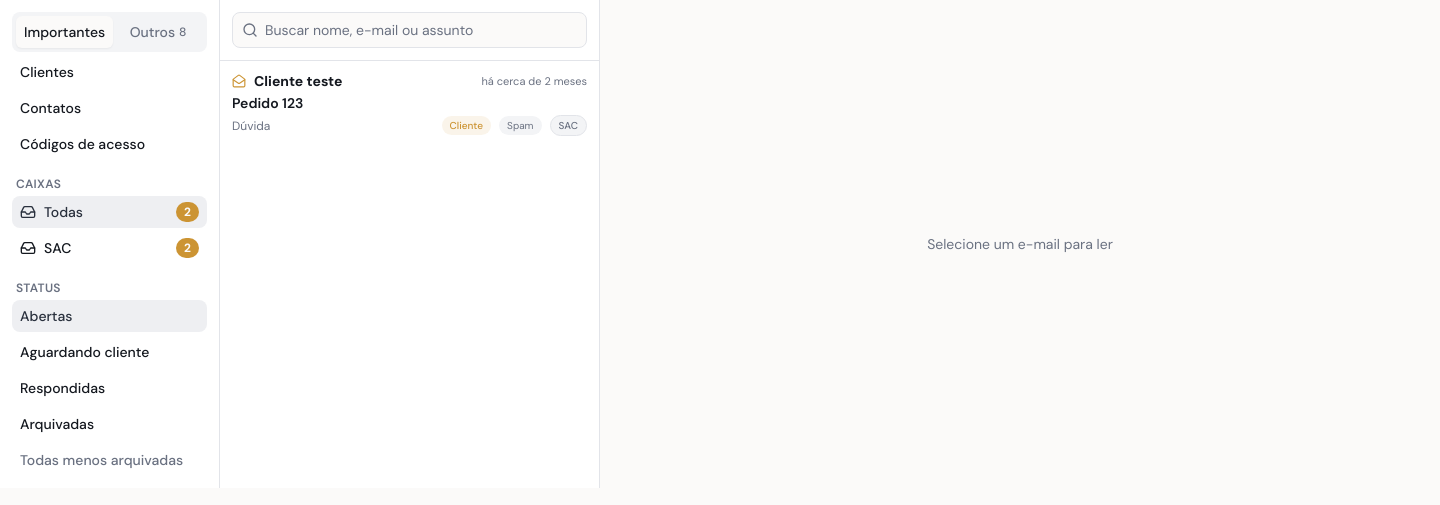
it: Inbox E-mail › move Outros para contato e passa categoria nula nas ações de status
The width and height of the screenshot is (1440, 505).
Later steps or results of the test are not shown.
Step 1. Click the button "Cliente teste" → click(298, 81), box [220,61,599,146]
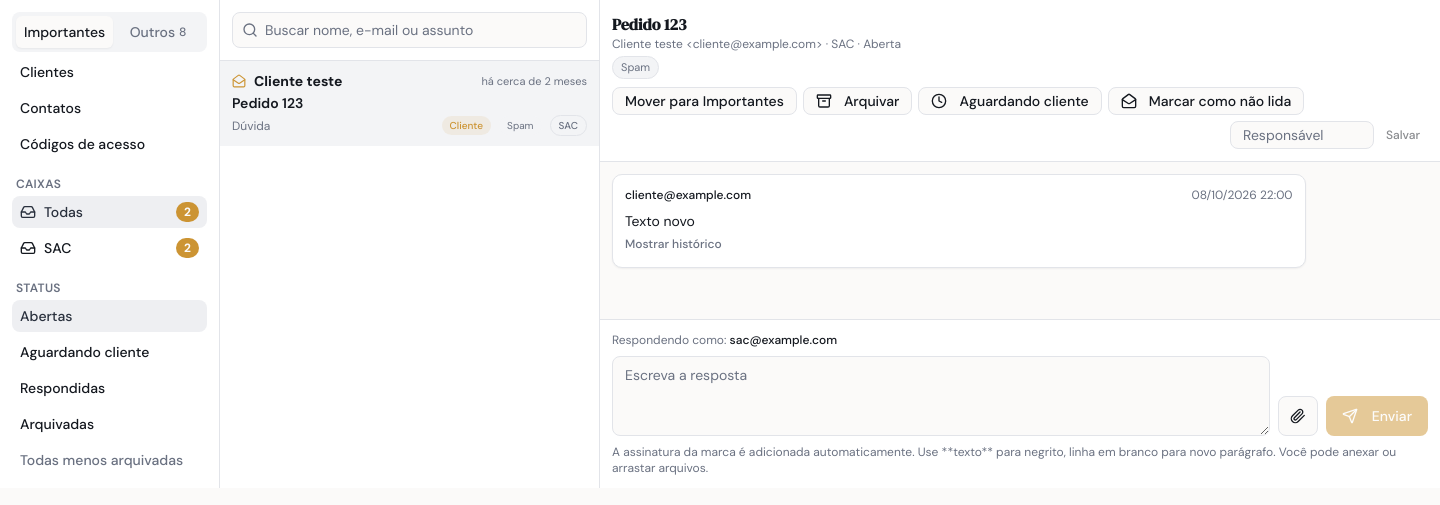
Step 2. Click the button "Mover para Importantes" → click(704, 100), box [612,86,797,114]
Expected: the button "Arquivar" is enabled, [803,86,912,114]
